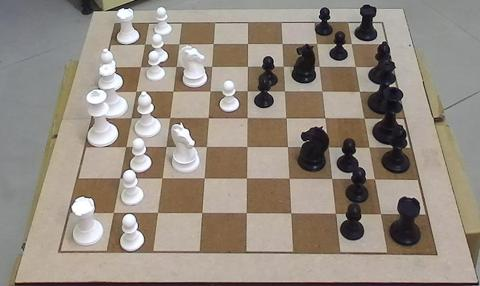xcorner: (277, 40, 287, 50), (242, 40, 252, 50), (173, 40, 183, 50), (139, 40, 149, 50), (314, 62, 324, 72), (355, 87, 365, 97), (317, 87, 327, 97), (242, 87, 252, 97), (205, 87, 215, 97), (130, 87, 140, 97), (320, 113, 330, 123), (281, 113, 291, 123), (242, 113, 252, 123), (203, 113, 213, 123), (164, 113, 174, 123), (365, 142, 375, 152), (324, 142, 334, 152), (283, 142, 293, 152), (242, 142, 252, 152), (201, 142, 211, 152), (120, 142, 130, 152), (242, 208, 252, 218), (197, 208, 207, 218), (108, 208, 118, 218), (312, 40, 321, 50), (208, 40, 217, 50), (351, 62, 360, 72), (278, 63, 288, 72), (242, 63, 252, 72), (206, 63, 216, 72), (280, 87, 289, 97), (168, 87, 177, 97), (360, 113, 369, 123), (126, 113, 135, 123), (161, 142, 170, 152), (371, 174, 380, 184), (328, 174, 337, 184), (285, 174, 294, 184), (242, 174, 252, 183), (199, 174, 209, 183), (157, 174, 167, 183), (153, 208, 162, 218), (347, 40, 356, 49), (171, 63, 180, 72), (135, 63, 144, 72), (115, 174, 124, 183), (377, 209, 386, 218), (332, 209, 341, 218), (287, 209, 296, 218)
